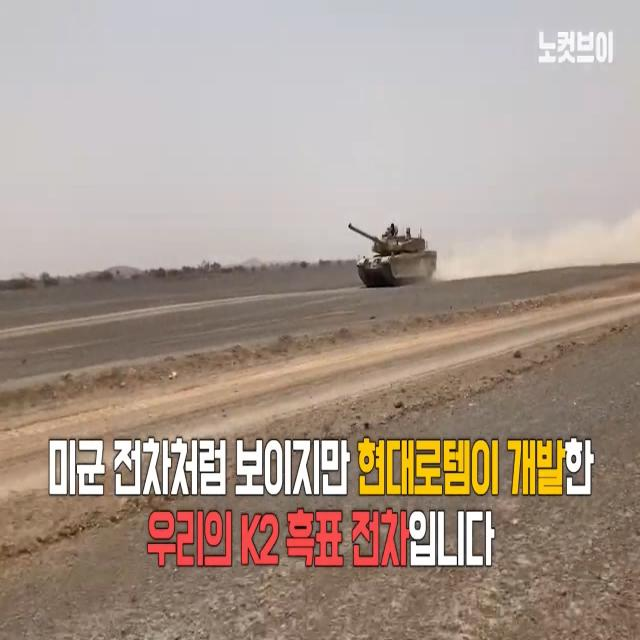korea tank: (347, 220, 438, 287)
